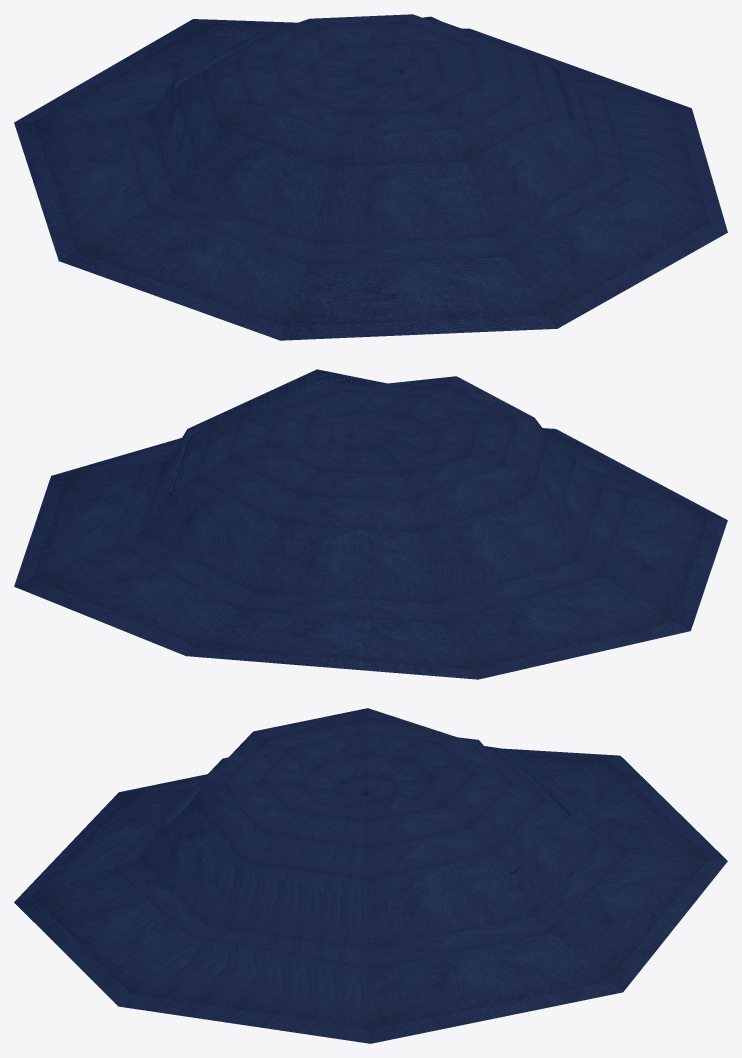
Rendered from cap2.fbx.
3 views of the same model, one above another, from view 1: azimuth 30°, elevation 25°; view 2: azimuth 150°, elevation 25°; view 3: azimuth 270°, elevation 25° (orthographic). The views are drawn at different scales.
Parts seen in each view (by area): view 1: nurbsToPoly4; view 2: nurbsToPoly4; view 3: nurbsToPoly4.
Boxes of the visible parts, x1,y1,x2,y2 form: nurbsToPoly4: (14,14,727,340); nurbsToPoly4: (14,369,727,679); nurbsToPoly4: (14,708,727,1043).
Bounding box in the file's own units: 6.33 × 1.27 × 6.33.
